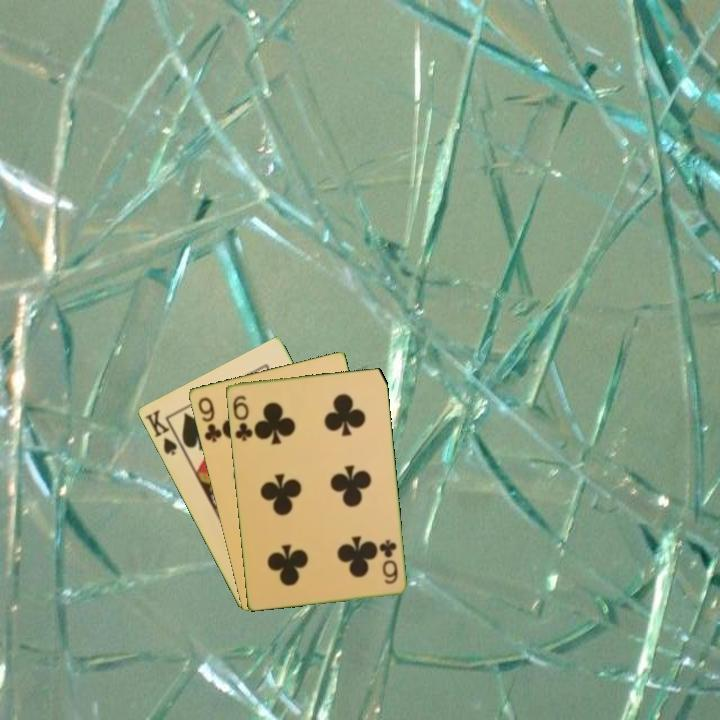6c: (229, 392, 255, 444), (376, 536, 401, 587)
9c: (194, 393, 224, 445)
Ks: (141, 406, 186, 458)
